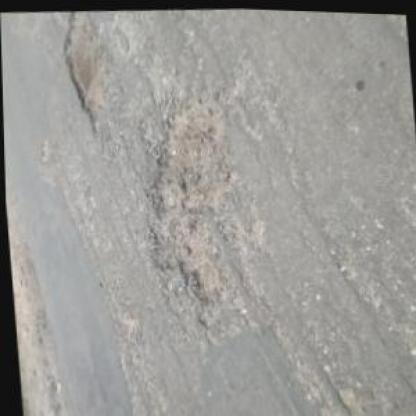pothole: (130, 94, 244, 330), (57, 9, 115, 134)
